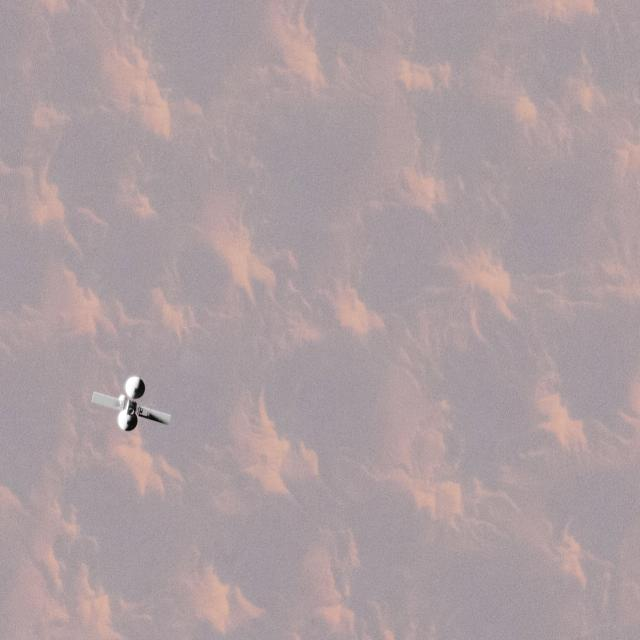satellite: (88, 366, 186, 432)
